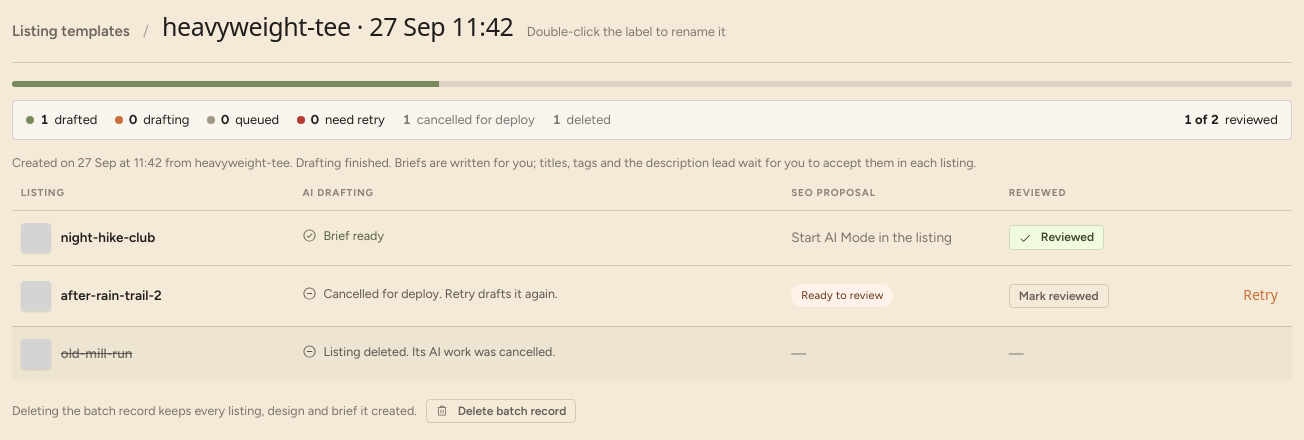
Test case: BatchSummaryPage › shows a row a deploy cancelled, offers its own Retry and no Resume
Expected: the text "Cancelled for deploy. Retry drafts it again." is shown, [302,285,558,302]
Expected: the text "Drafting finished." is shown, [296,155,391,170]
Click the button "Retry" at (1260, 296), box [1238,278,1283,314]
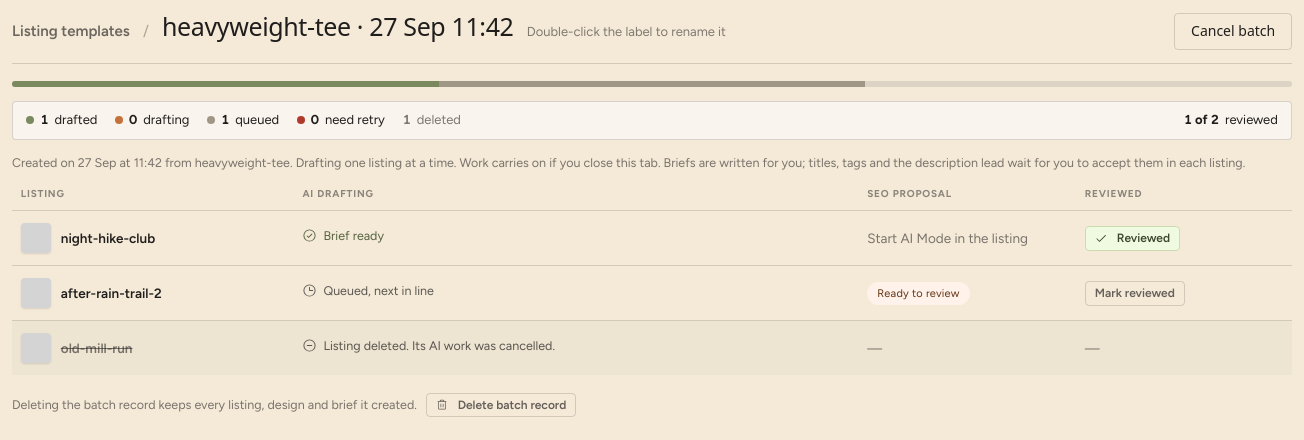
Expected: the element with class "bc-counts" shows "1 queued", [12,101,1292,140]
